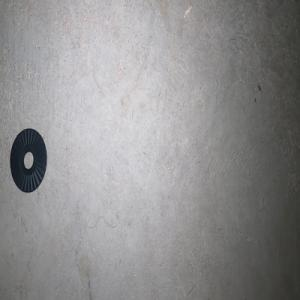Washer: (9, 128, 47, 192)
